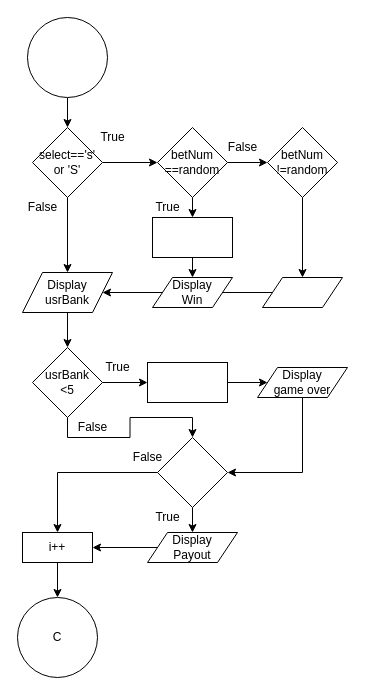
Image size: 365x695. Some labels were removed from this diagram. The centre of each missing label's shape, as x and y in pixels:
"Display Loss" belongs at (x=302, y=292).
"Page 4" belongs at (x=67, y=57).
"select='q'" belongs at (x=187, y=382).
"select=='q' or 'Q'" belongs at (x=192, y=472).
"usrBank+=(35*bet)+bet" belongs at (x=192, y=237).
